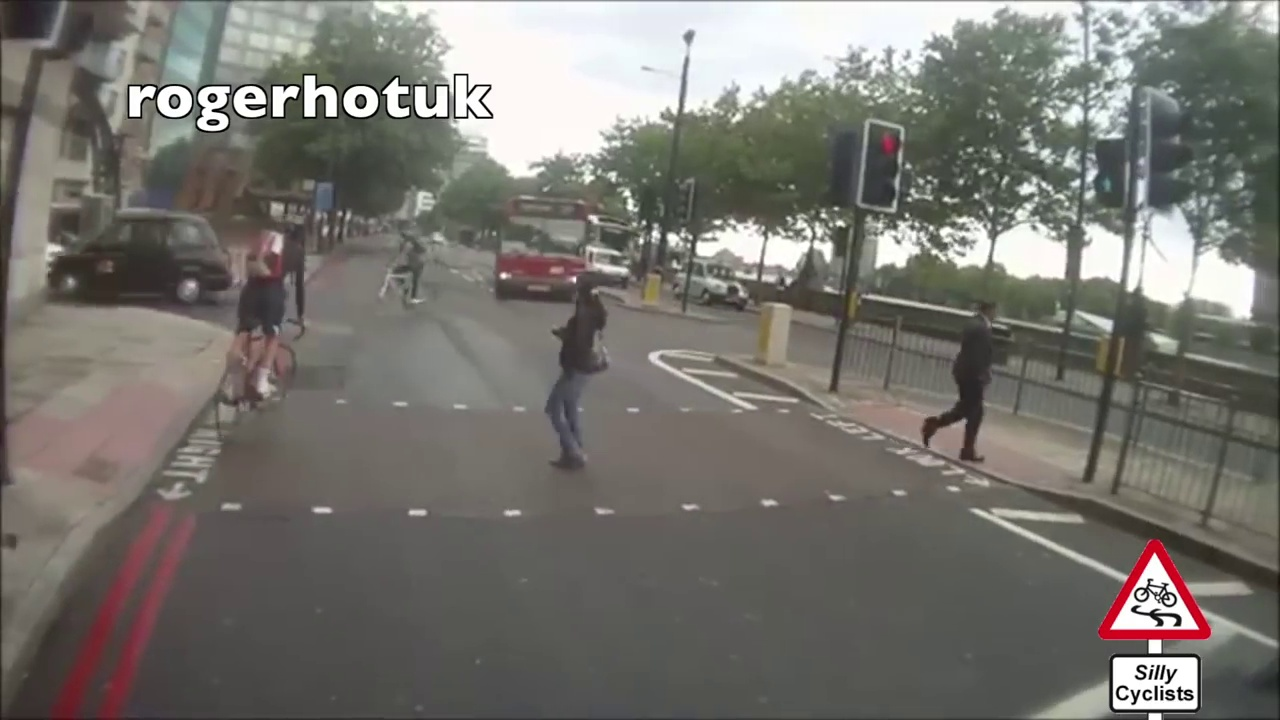cyclist_back: (214, 234, 303, 437)
cyclist_side: (378, 227, 441, 322)
